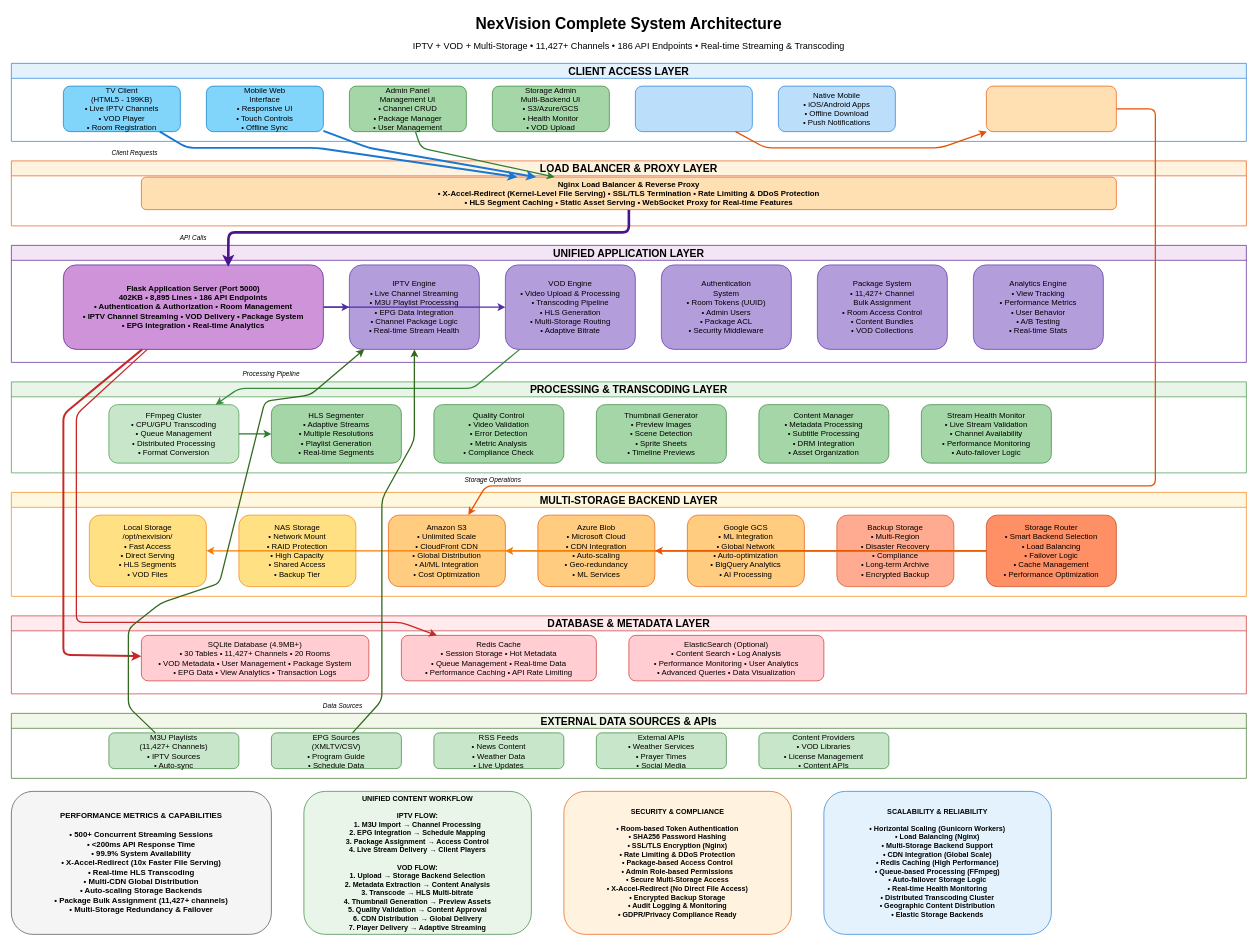
This 1258x946 diagram has some shape labels left out. The shapes that lost their labels are listed below. From the top down, each one's centre as x and y in pixels, then its label:
the point at 693,108: Smart TV Apps • Samsung/LG • Android TV • Apple TV • Roku
the point at 1051,108: CDN Edge Nodes • CloudFront • Azure CDN • Google CDN • Geographic Distribution
